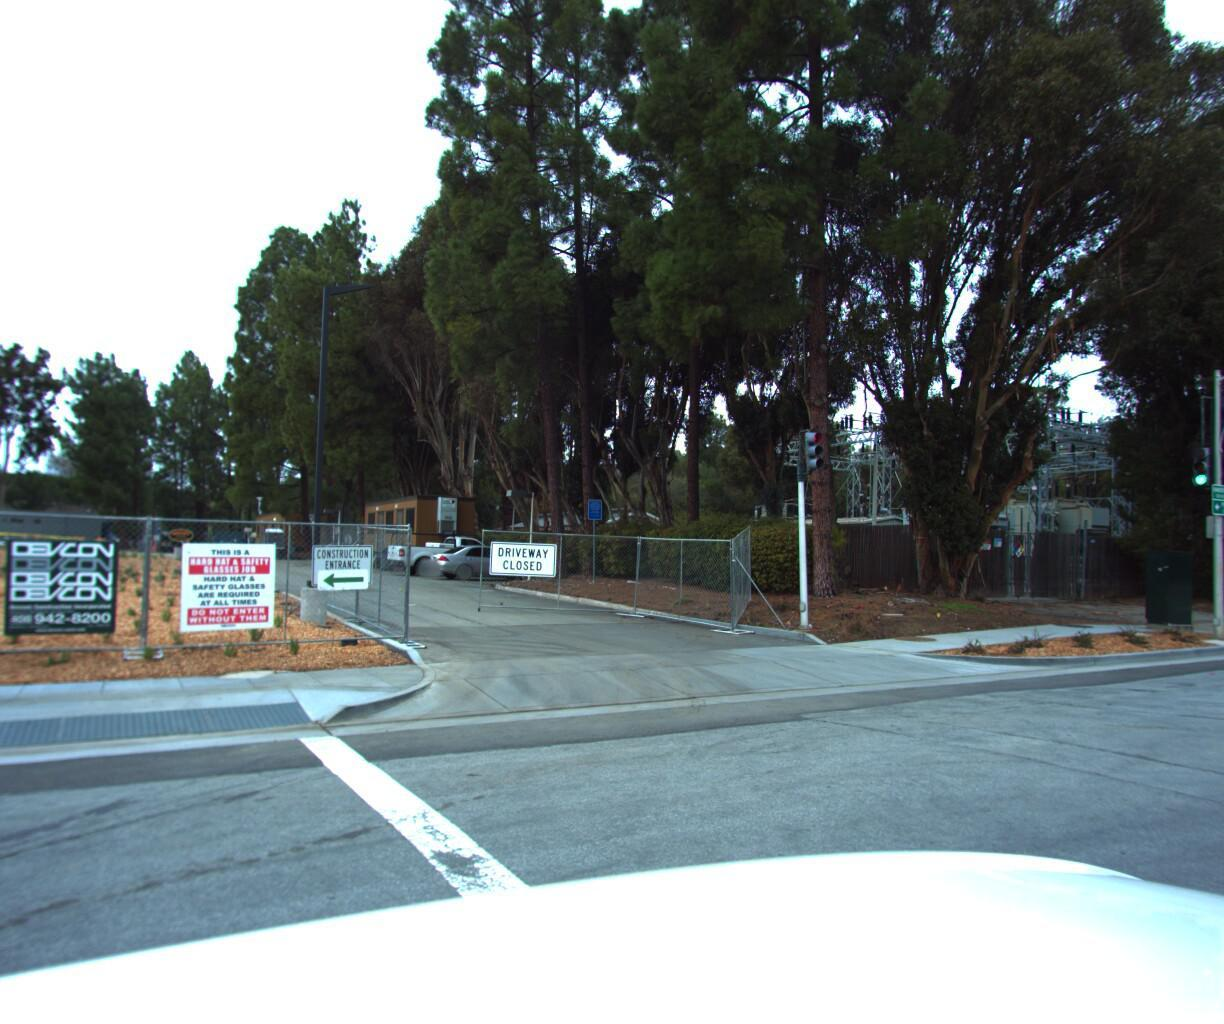car: (382, 521, 516, 574), (423, 539, 537, 578)
